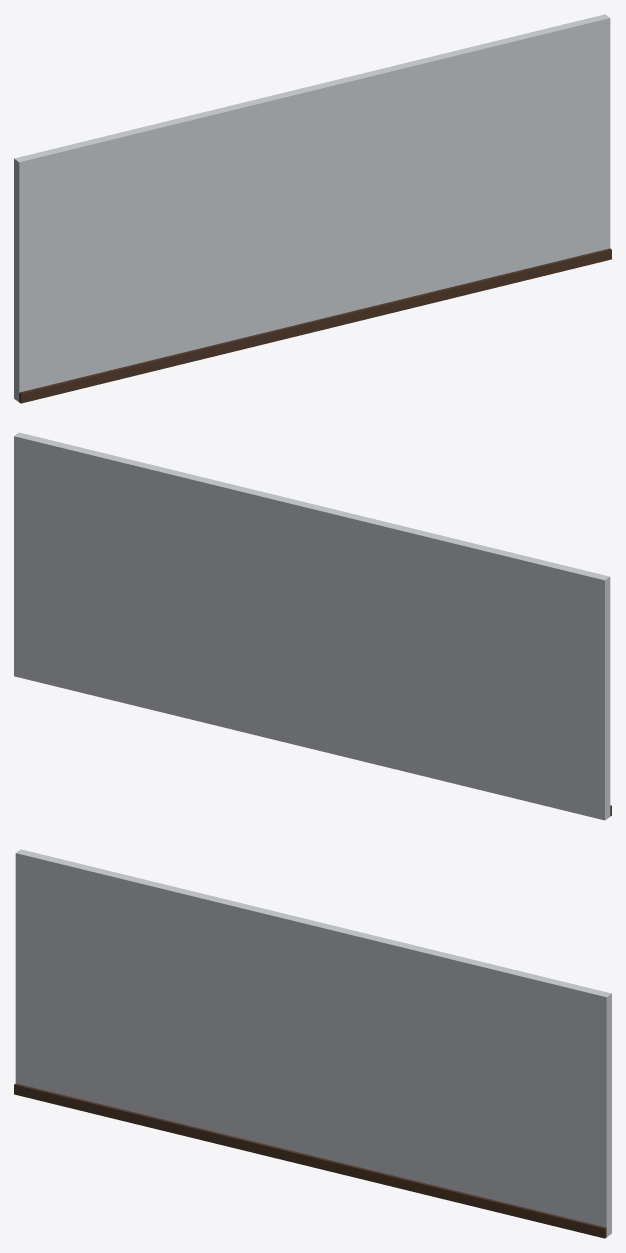
Rendered from parede.fbx.
3 renders of one model, top to bottom at view 1: azimuth 30°, elevation 25°; view 2: azimuth 150°, elevation 25°; view 3: azimuth 330°, elevation 25°, orthographic.
Visible parts, largest first — view 1: Cube, Cube_1; view 2: Cube; view 3: Cube, Cube_1.
Part boxes in pixels (x1,y1,x2,y2): Cube: (14,14,610,401); Cube_1: (19,248,611,403); Cube: (14,432,610,820); Cube: (15,849,611,1236); Cube_1: (14,1083,606,1238).
Size of the model in its own units: 446 by 173 by 9.
